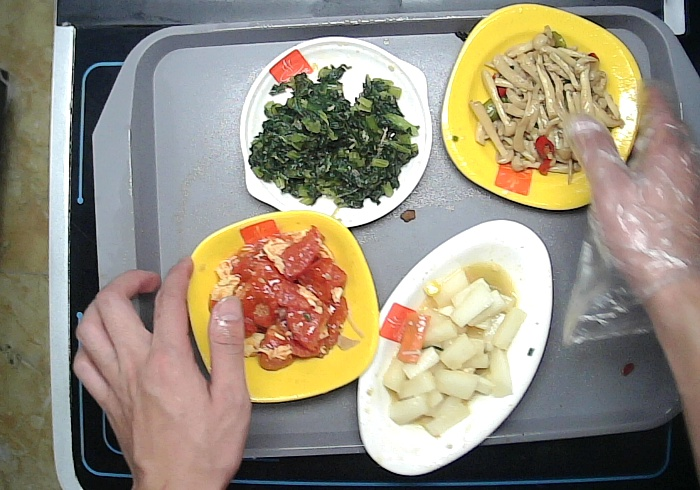SHKJ-Bao_Yu_Pan: (239, 36, 432, 226)
SHKJ-Huang_Se_Cai_Die: (185, 210, 380, 403)
SHKJ-Huang_Se_Si_Fang_Cai_Die: (440, 4, 645, 209)
SHKJ-Yu_Pan: (357, 220, 553, 476)
